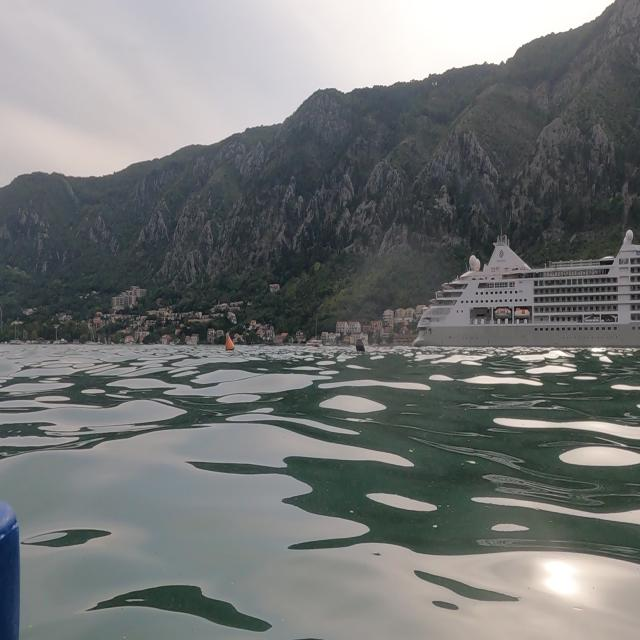boat: (412, 224, 638, 350)
buoy: (349, 336, 372, 366), (220, 329, 240, 357)
